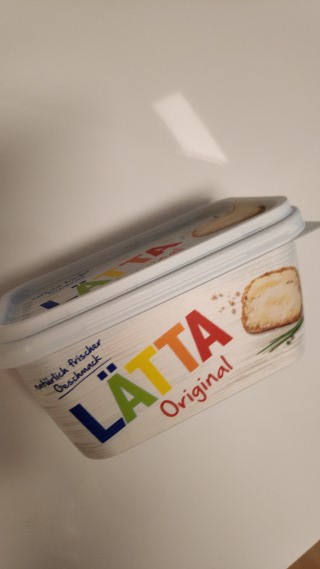laetta: (1, 195, 319, 460)
